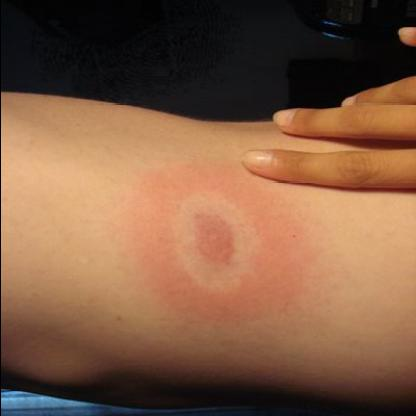Tick: (120, 159, 320, 334)
